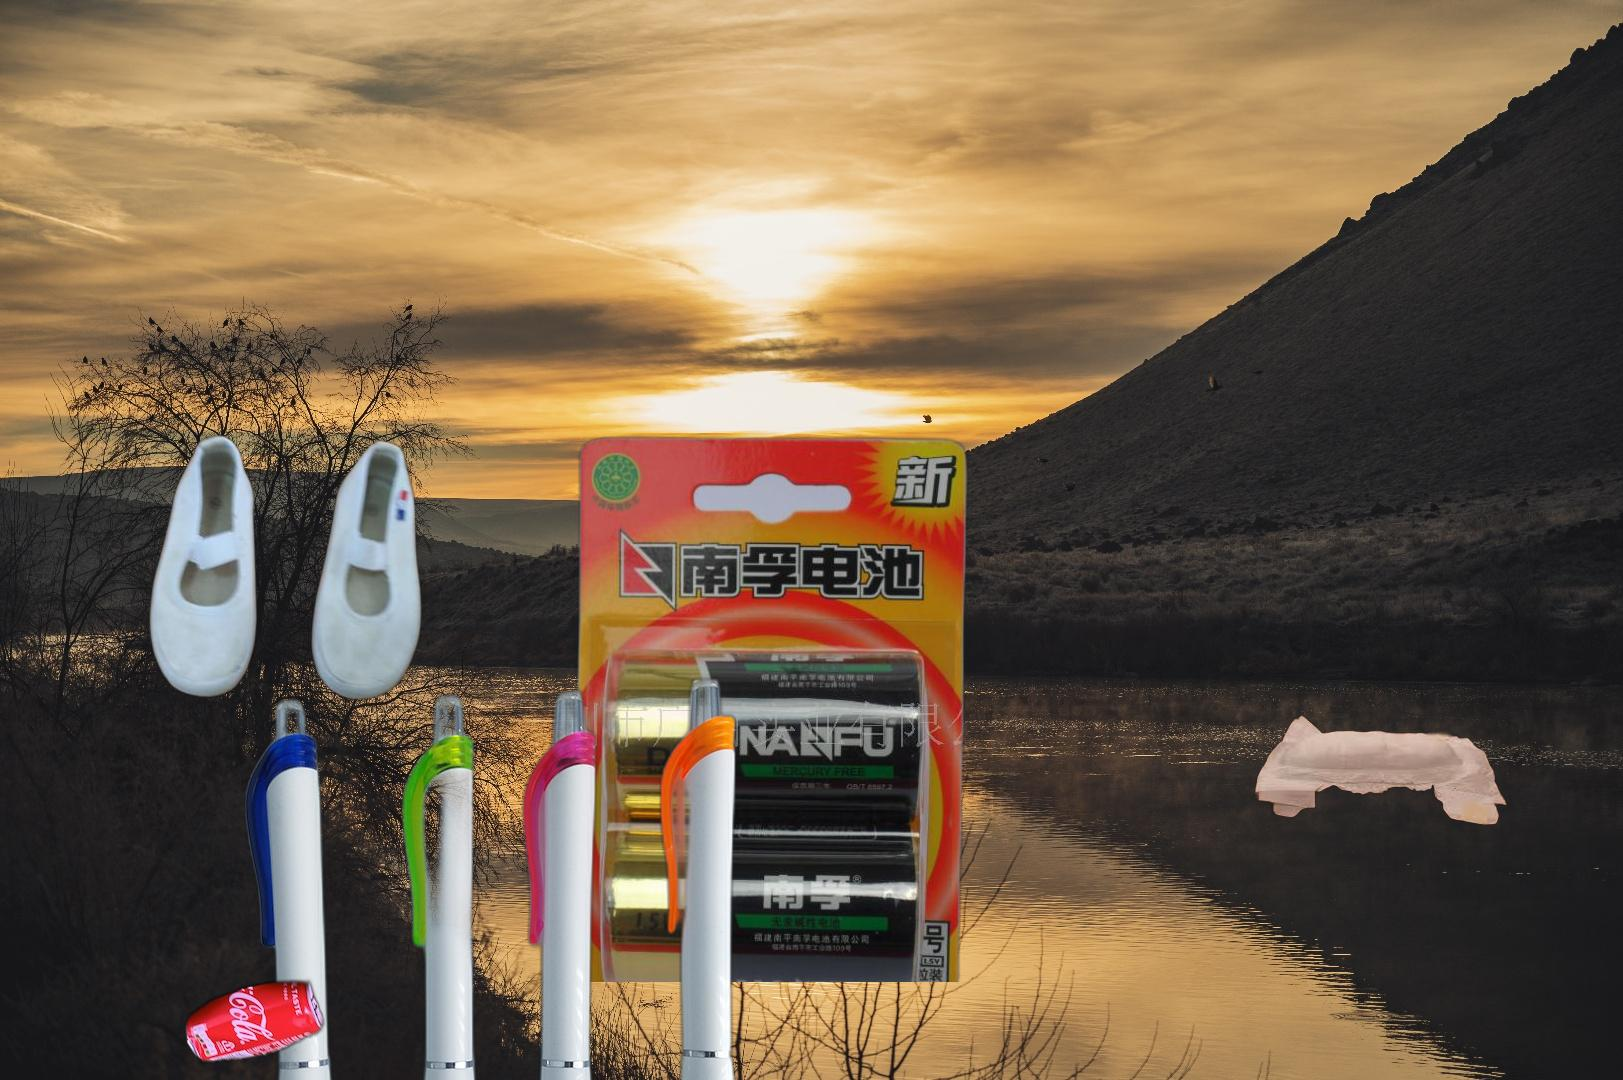battery: (570, 433, 972, 982)
metal-cans: (180, 975, 328, 1068)
penholder: (239, 671, 746, 1080)
shoes: (145, 430, 427, 704)
trash: (1251, 712, 1510, 828)
